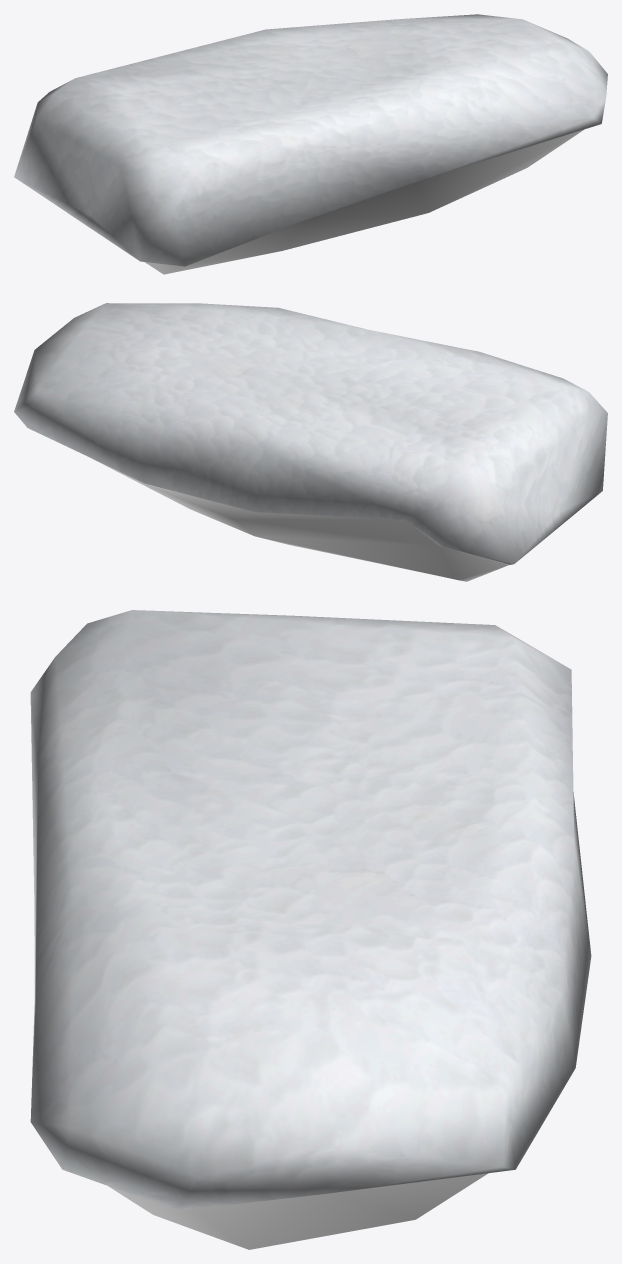
File: rock_s01.fbx
3 views of the same model, one above another, from view 1: azimuth 30°, elevation 25°; view 2: azimuth 150°, elevation 25°; view 3: azimuth 270°, elevation 25° (orthographic). The views are drawn at different scales.
Visible parts, largest first — view 1: rock_s01; view 2: rock_s01; view 3: rock_s01.
Boxes of the visible parts, x1,y1,x2,y2 form: rock_s01: [14, 14, 607, 274]; rock_s01: [14, 303, 607, 581]; rock_s01: [30, 610, 591, 1249].
Bounding box in the file's own units: 362 × 84.7 × 171.
